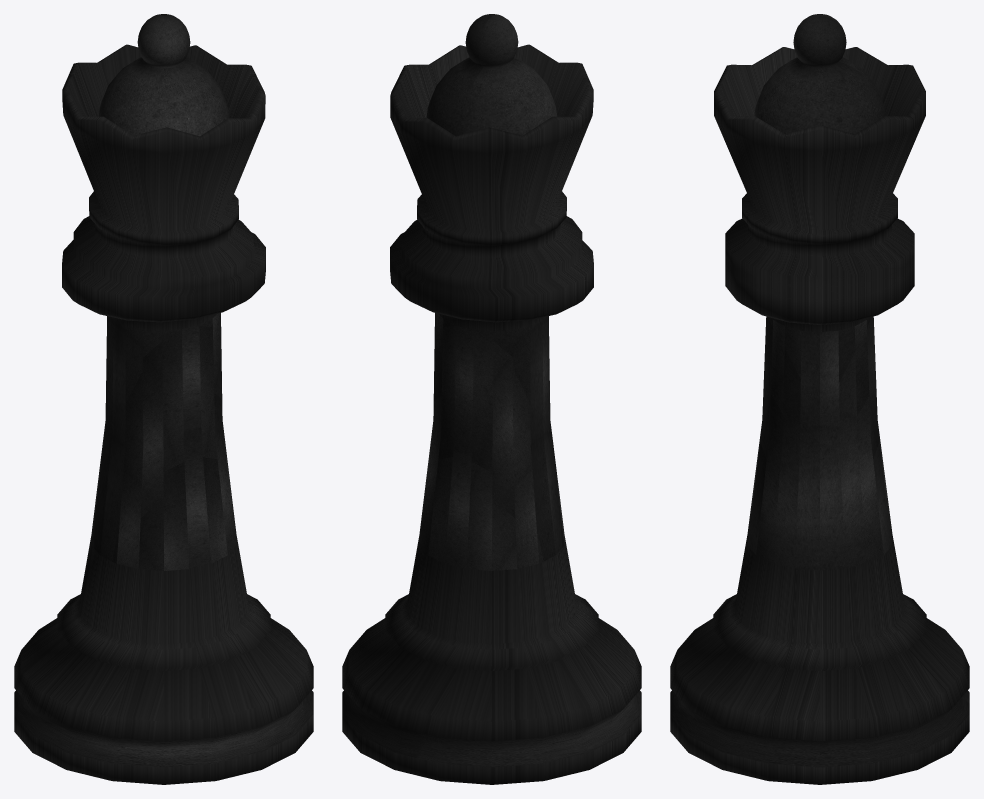
The model's file is b-queen-stone.gltf.
3 renders of one model, left to right at view 1: azimuth 30°, elevation 25°; view 2: azimuth 150°, elevation 25°; view 3: azimuth 270°, elevation 25°, orthographic.
Visible parts, largest first — view 1: B_Queen; view 2: B_Queen; view 3: B_Queen.
Boxes of the visible parts, x1,y1,x2,y2 form: B_Queen: [14, 14, 313, 784]; B_Queen: [342, 14, 641, 784]; B_Queen: [670, 14, 969, 784].
Size of the model in its own units: 49.35 by 128 by 48.6.
Materials: 1 (1 with a texture image).
